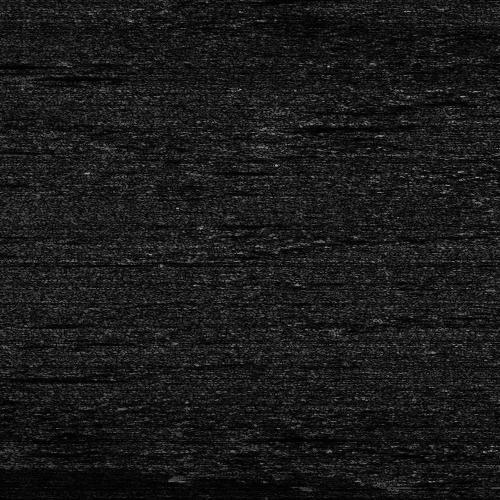object: (201, 432, 264, 441), (6, 73, 47, 78), (244, 124, 285, 129), (16, 321, 47, 324)
shadow: (232, 432, 320, 441), (265, 124, 389, 129), (0, 375, 95, 380), (26, 73, 108, 78), (0, 178, 23, 185), (32, 321, 83, 324)
